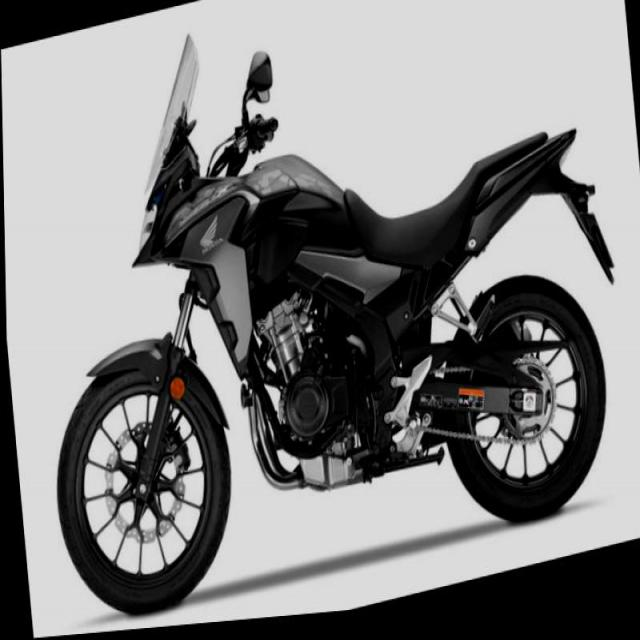CB500X: (16, 0, 633, 639)
